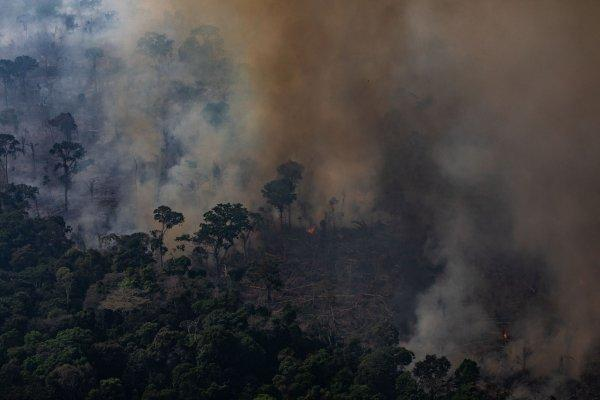smoke: (264, 4, 600, 131)
